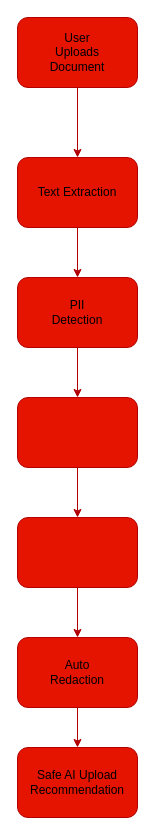
Image size: 155x835. Some labels were removed from this diagram. Here are the shapes that lost their labels. From the top down, the box of each, then its label:
(16, 396, 138, 468): Risk Assessment
(16, 516, 138, 588): Risk Scoring
